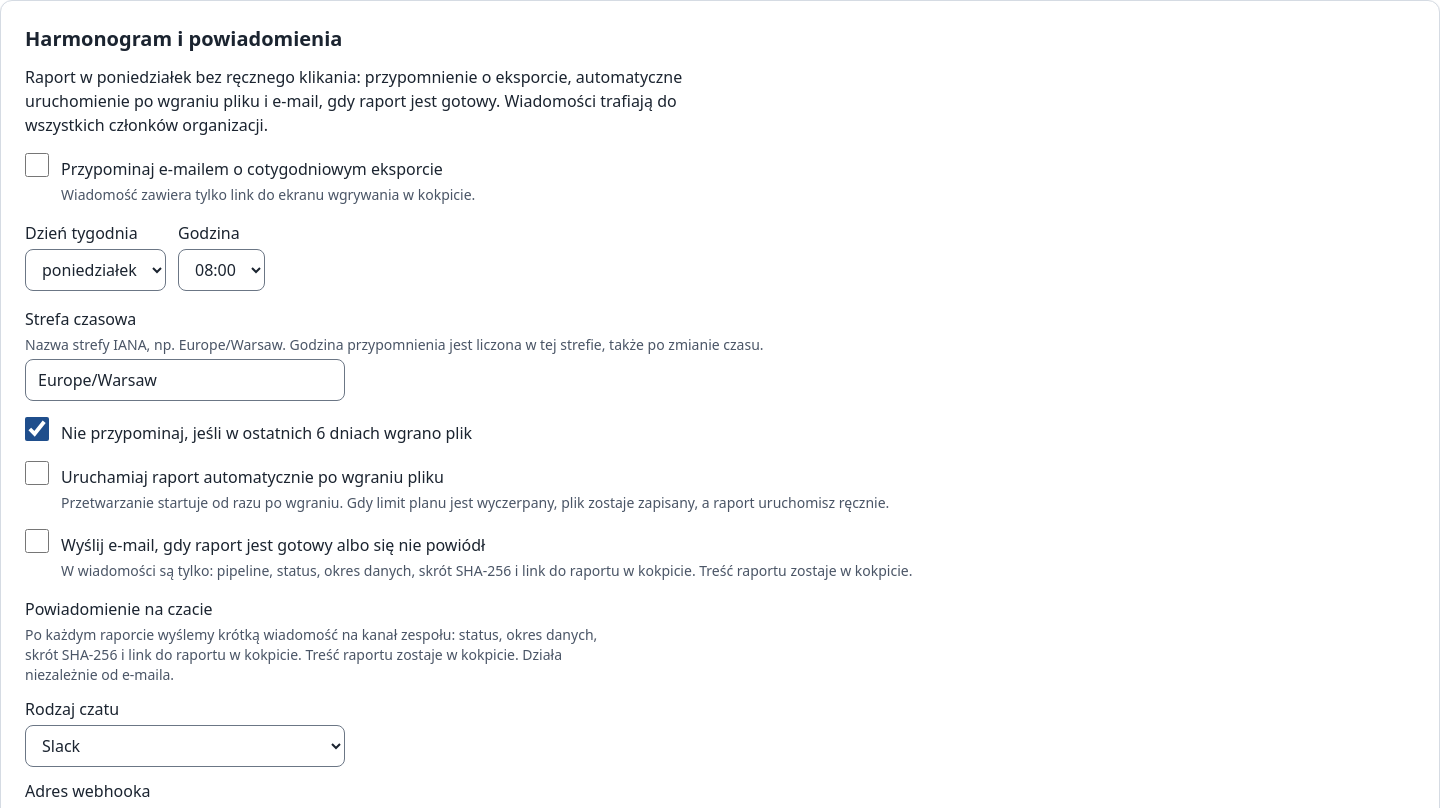
Test: ScheduleSettingsCard › zapis bez dotykania adresu nie wysyła notify_webhook_url (adres zostaje)
Click the switch labelled "Wyślij e-mail, gdy raport jest gotowy albo się nie powiódł" at (37, 541), box [25,529,49,553]
(page scrolled)
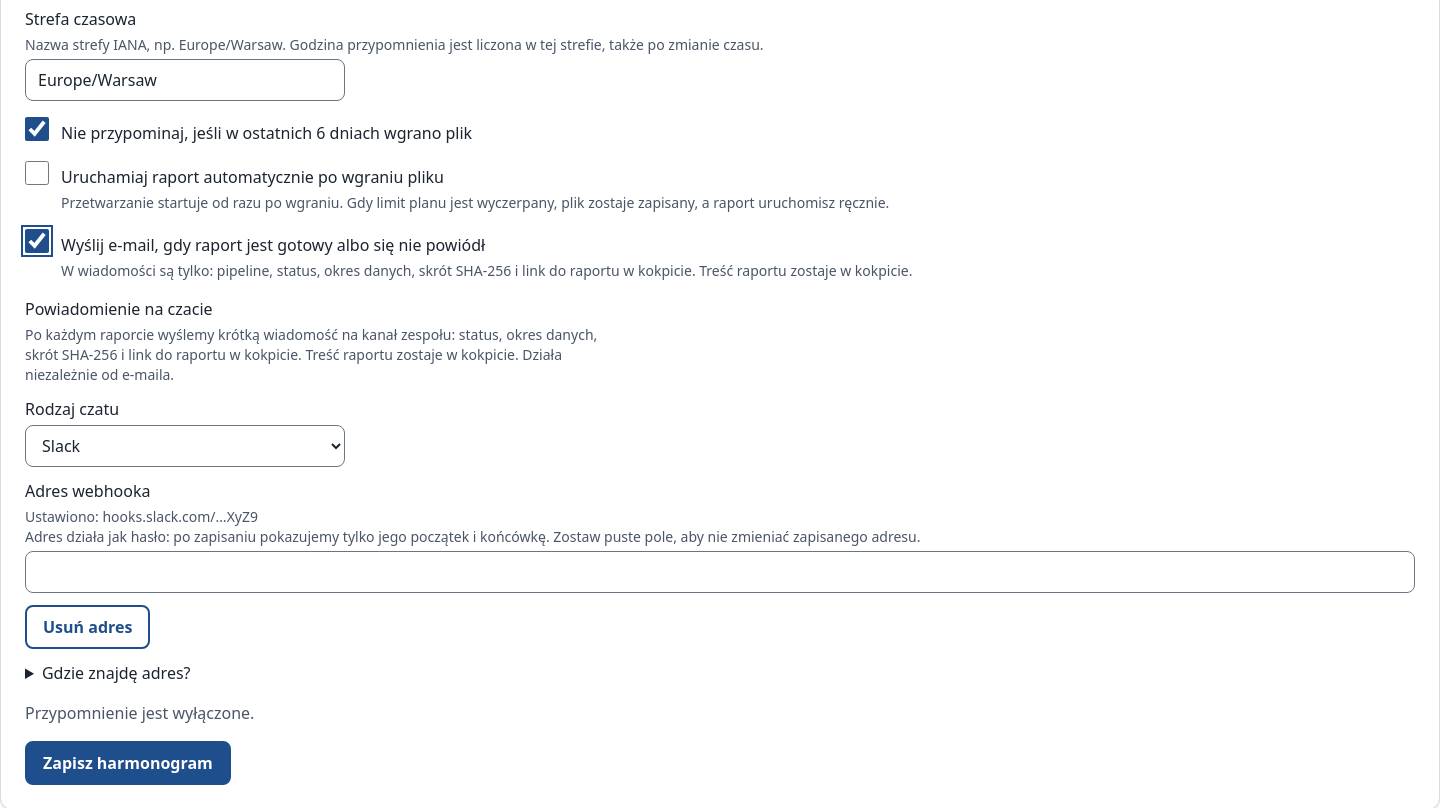
Click the button "Zapisz harmonogram" at (128, 763), box [25,741,231,785]
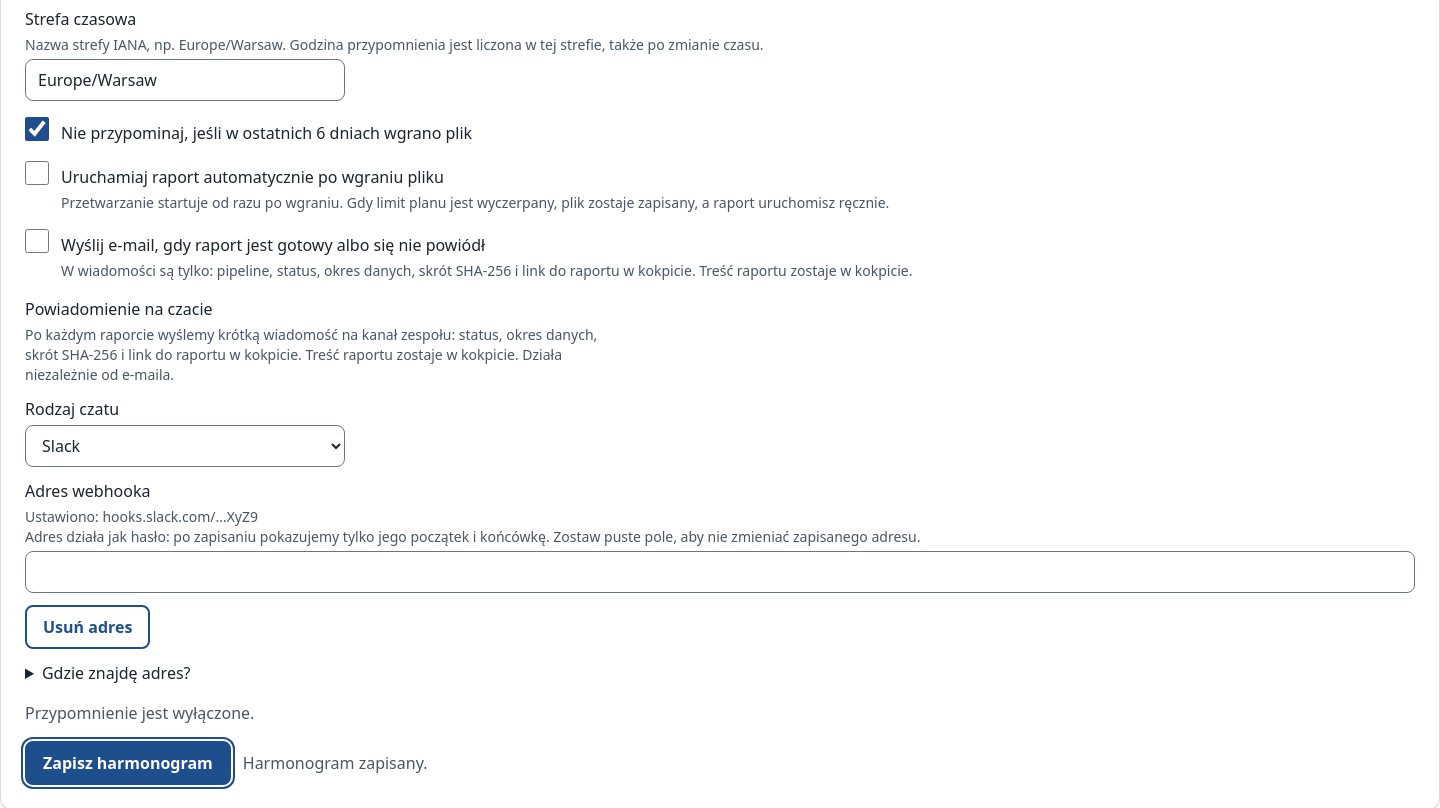
Now the text "Harmonogram zapisany." is shown, box [243,751,428,775]
